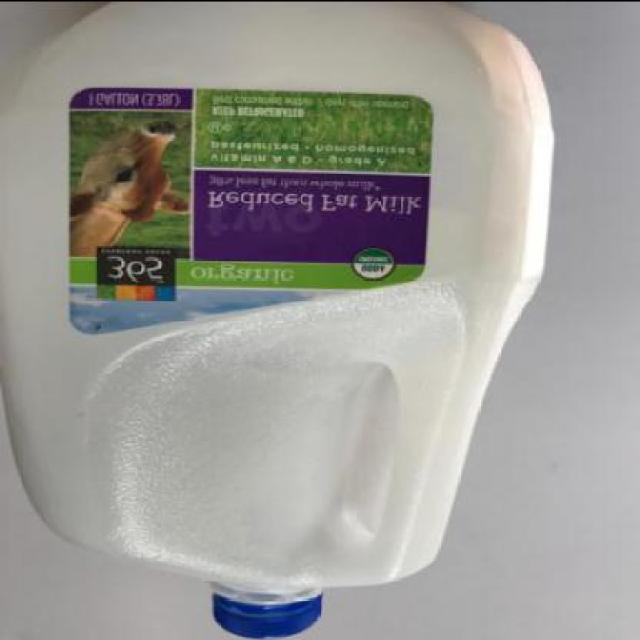PLASTIC: (1, 1, 557, 638), (212, 585, 323, 638)
